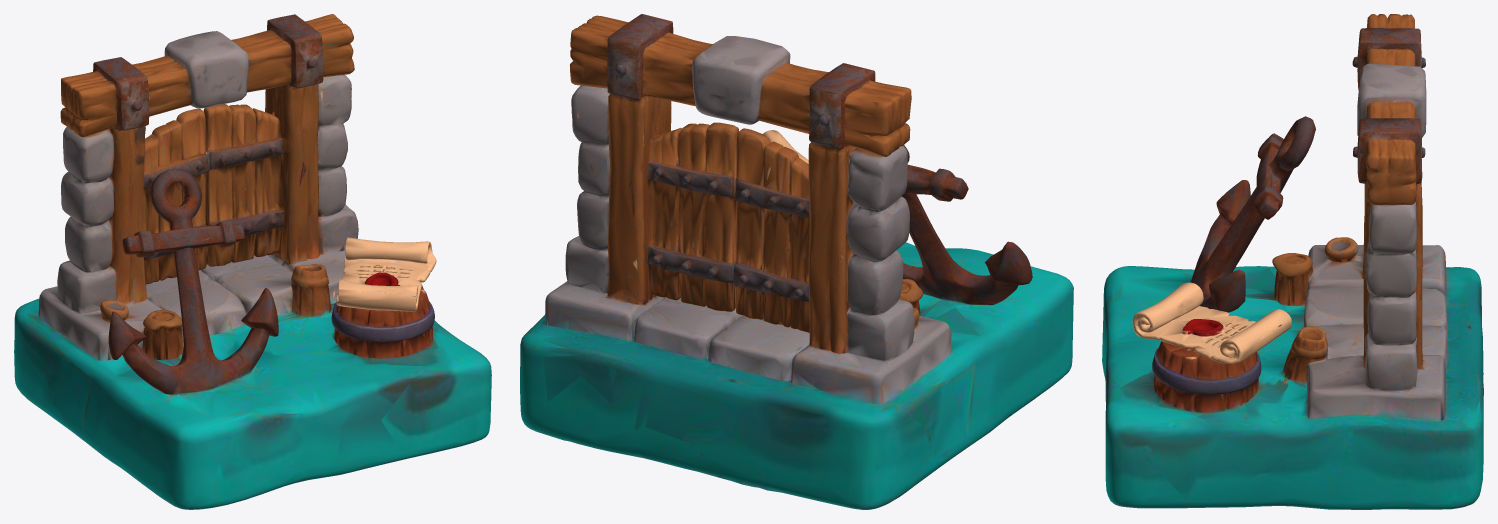
File: m_port_animated.glb
3 renders of one model, left to right at view 1: azimuth 30°, elevation 25°; view 2: azimuth 150°, elevation 25°; view 3: azimuth 270°, elevation 25°, orthographic. The views are drawn at different scales.
Visible parts, largest first — view 1: m_port_Living_Scenery; view 2: m_port_Living_Scenery; view 3: m_port_Living_Scenery.
Part boxes in pixels (bbox=[...]): m_port_Living_Scenery: bbox=[14, 14, 491, 509]; m_port_Living_Scenery: bbox=[520, 14, 1073, 509]; m_port_Living_Scenery: bbox=[1102, 14, 1483, 509].
Size of the model in its own units: 1 by 0.9723 by 0.9459.
Materials: 1 (1 with a texture image).
